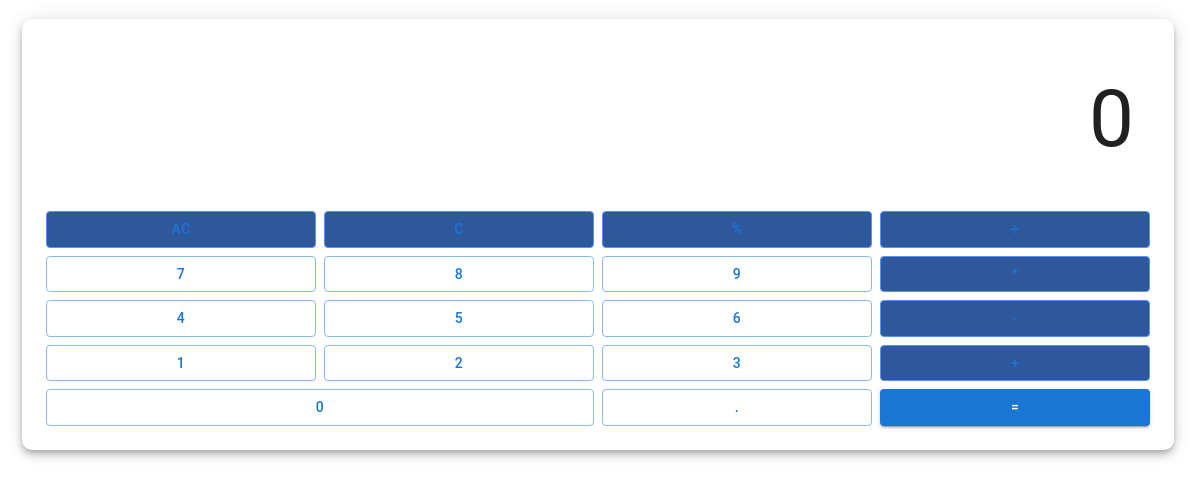
calculator tests › Substraction test
Click the button "7". click: (181, 274)
box: [46,256,316,292]
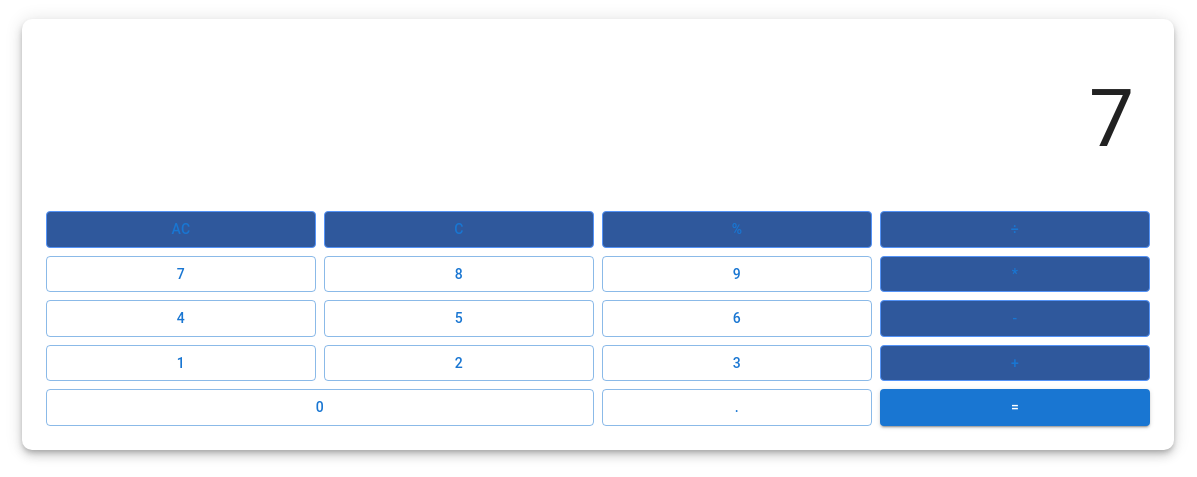
Click the button "1". click: (181, 363)
box: [46,344,316,381]
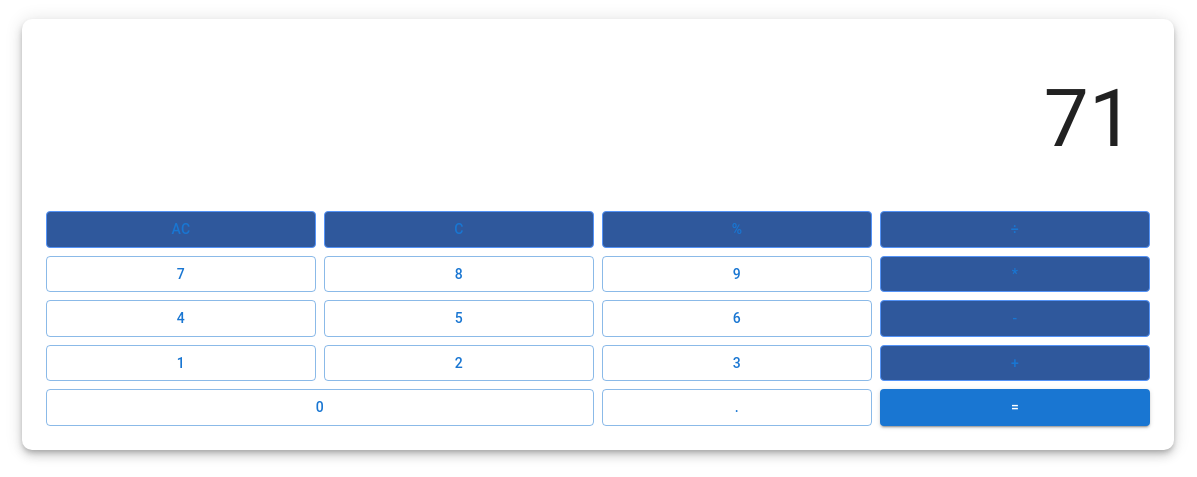
Click the button "-". click: (1015, 318)
box: [880,300,1150,336]
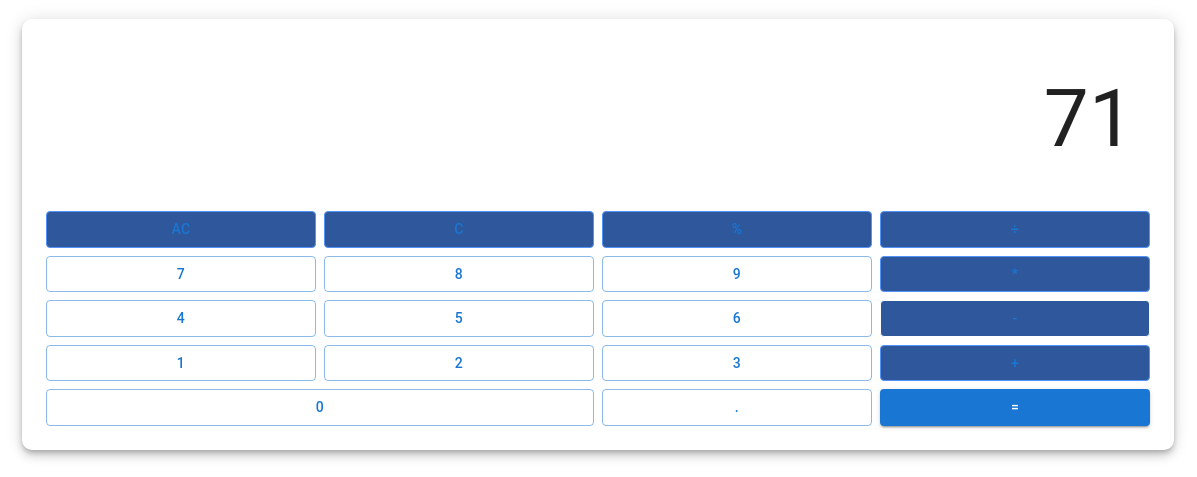
Click the button "5". click: (459, 318)
box: [324,300,594,336]
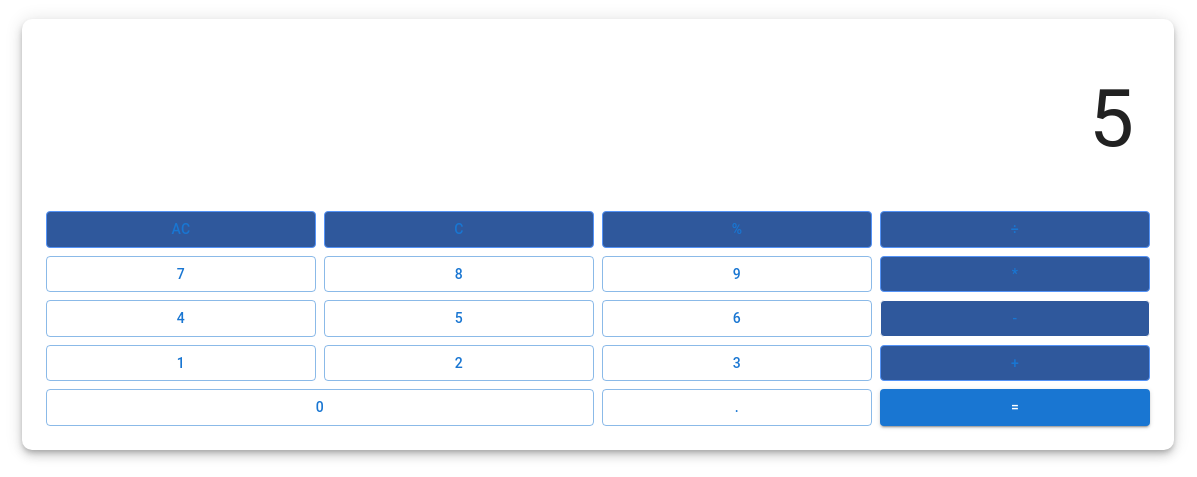
Click the button "8". click: (459, 274)
box: [324,256,594,292]
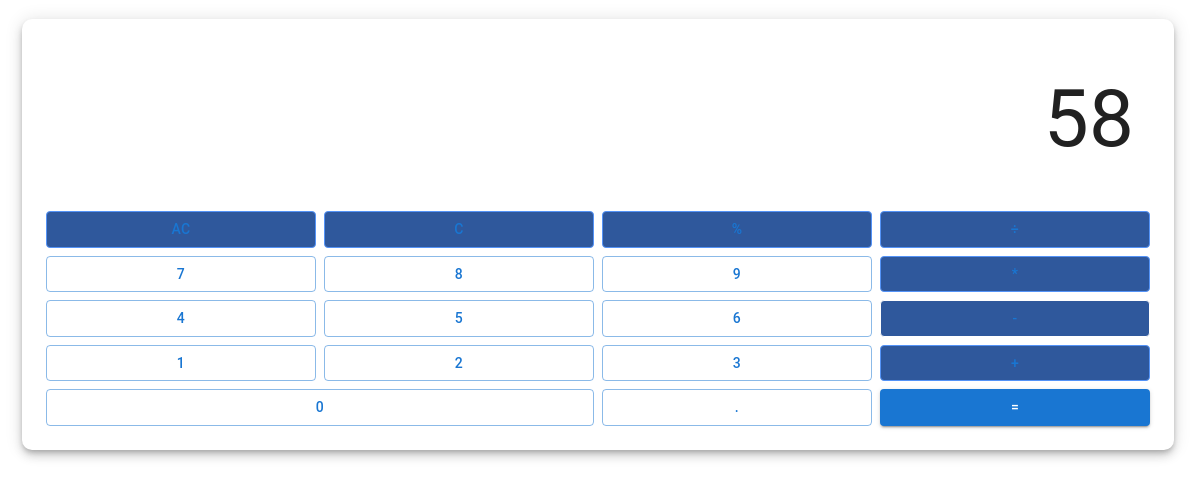
Click the button "=". click: (1015, 407)
box: [880,389,1150,426]
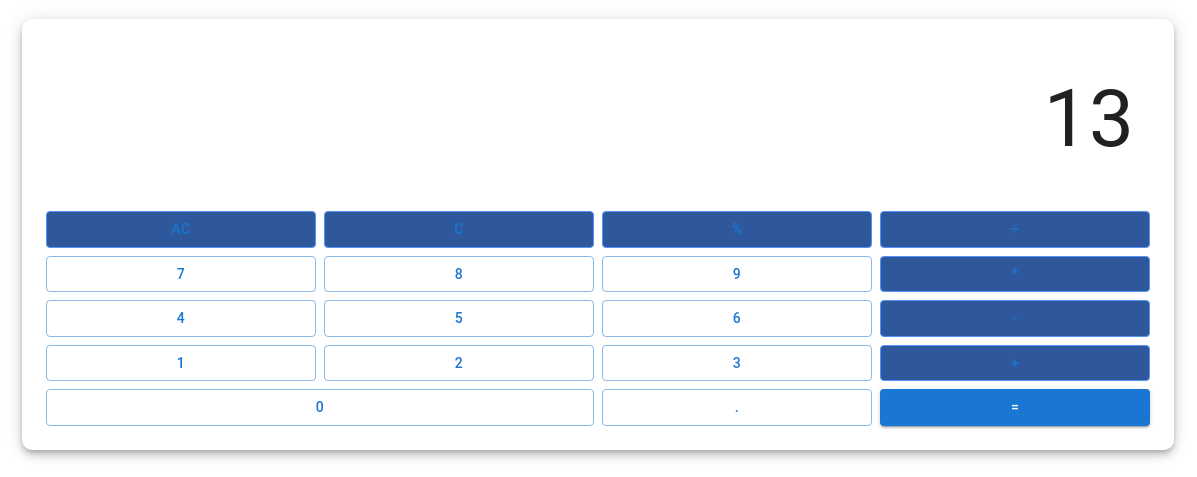
Check: the text with test id "output" reads "13", box [1044,72,1134,166]
